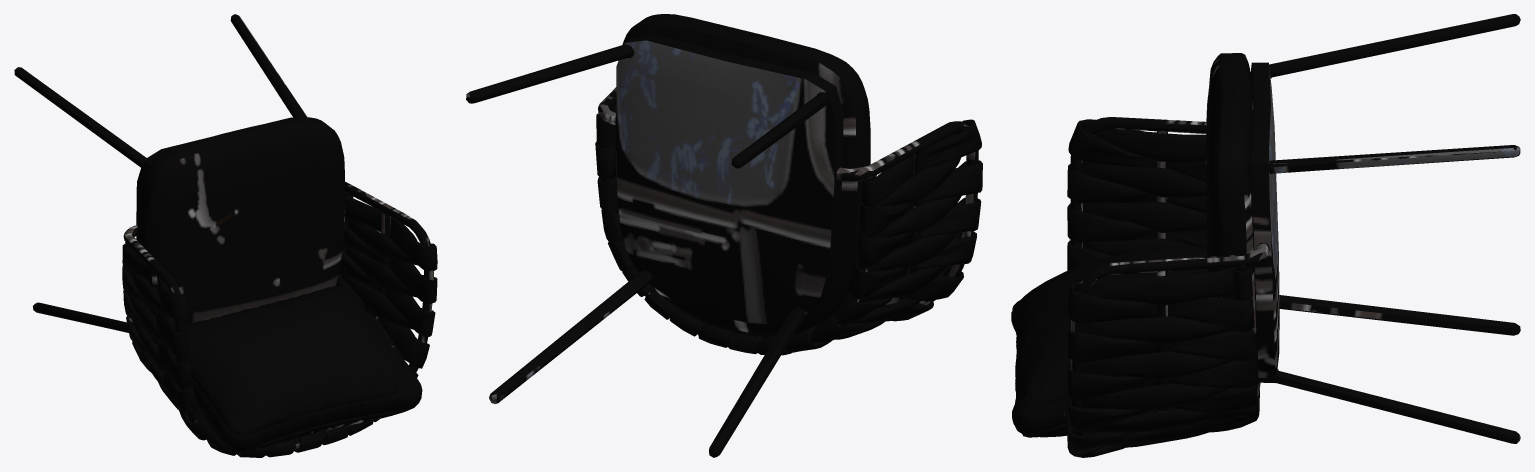
3 renders of one model, left to right at view 1: azimuth 30°, elevation 25°; view 2: azimuth 150°, elevation 25°; view 3: azimuth 270°, elevation 25°, orthographic. The views are drawn at different scales.
Bounding box in the file's own units: 0.7076 × 0.7166 × 0.949.
